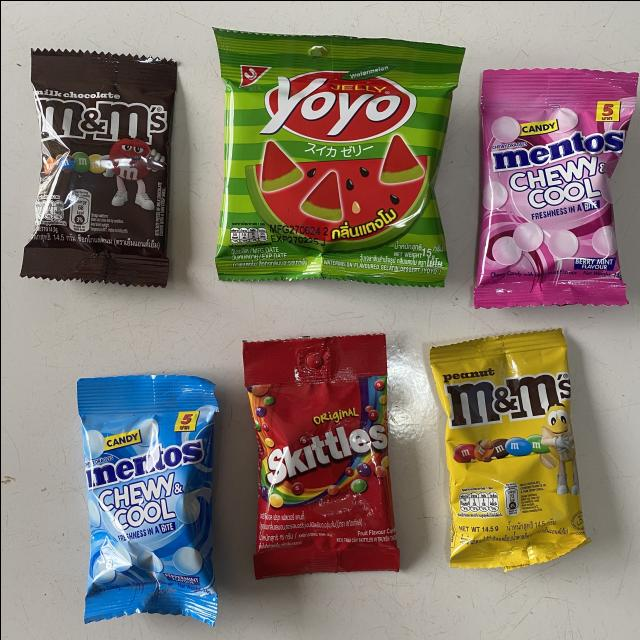plastik: (214, 27, 464, 285), (473, 68, 638, 306), (428, 328, 588, 569), (242, 333, 398, 578), (19, 49, 176, 285), (77, 374, 216, 624)
